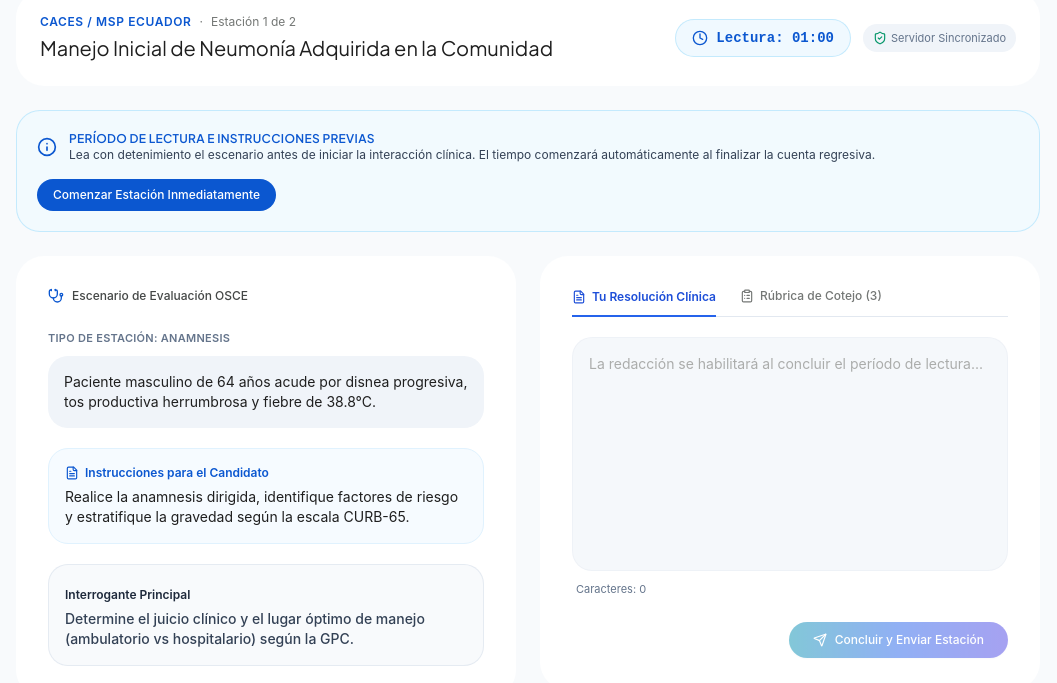
Scenario: Suite de Pruebas: Motor de Exámenes Clínicos Estructurados (OSCE / ECOE - Ateneo+) › permite enviar la estación voluntariamente y genera la firma criptográfica
Note: Iniciar estación activa
Click the button "Comenzar Estación Inmediatamente".
click(156, 195)  # box [37, 179, 276, 211]
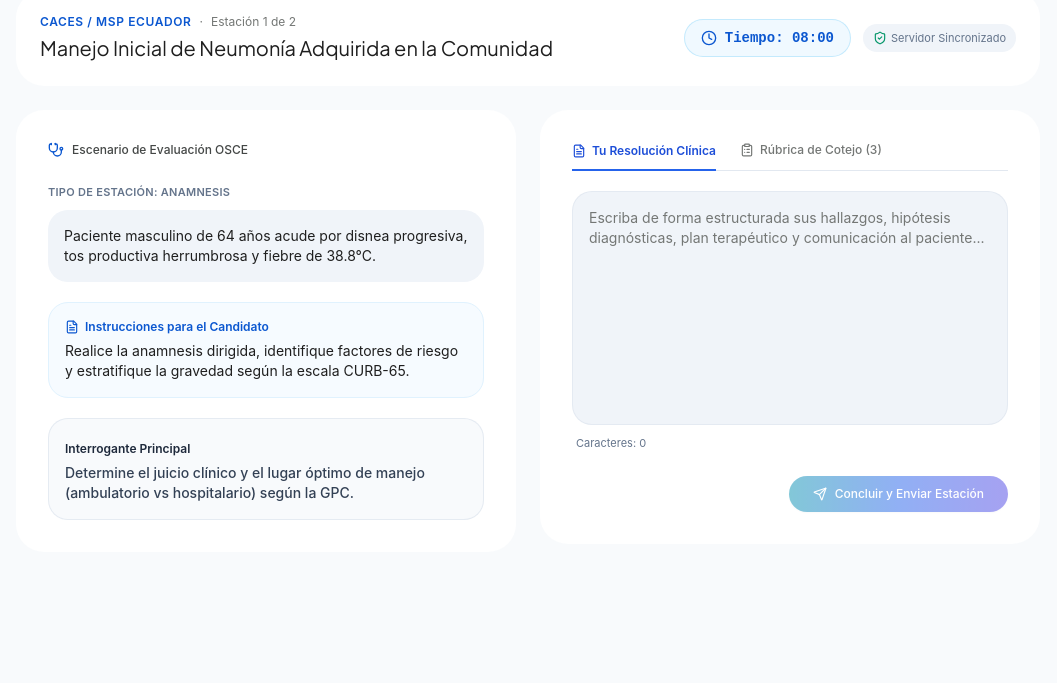
Replace the text in the text box with placeholder "Escriba de forma estructurada sus hallazgos" with "Impresión diagnóstica: NAC moderada. Manejo hospitalario según GPC MSP." at point(790, 308), box [572, 191, 1008, 425]
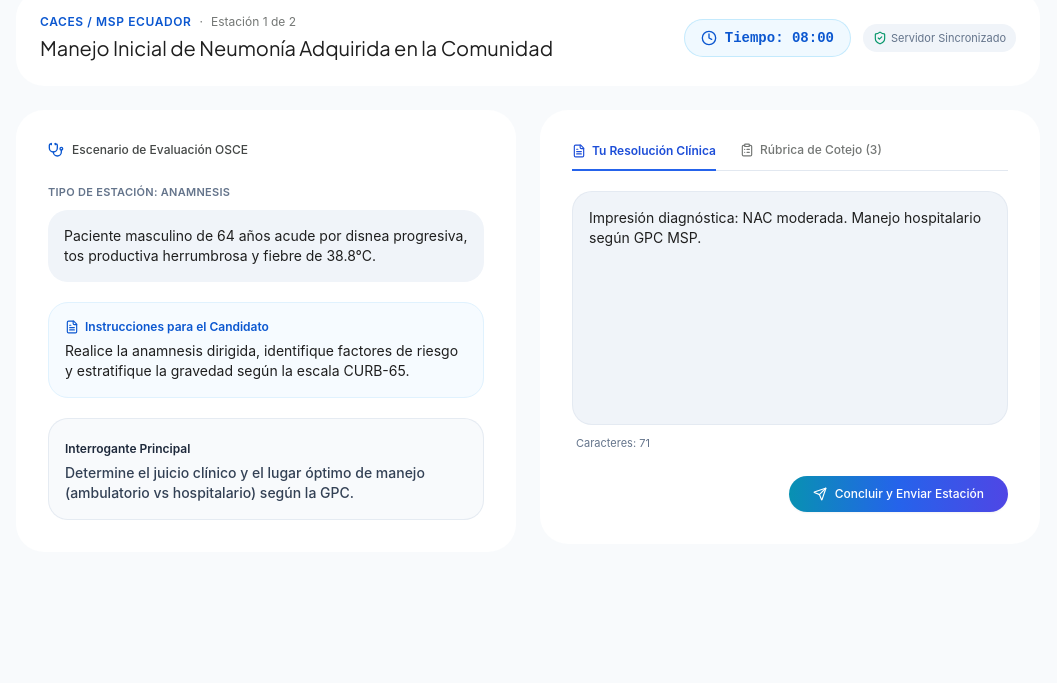
Click the button "Concluir y Enviar Estación".
click(898, 494)  # box [789, 476, 1008, 512]
Wait 50 ms
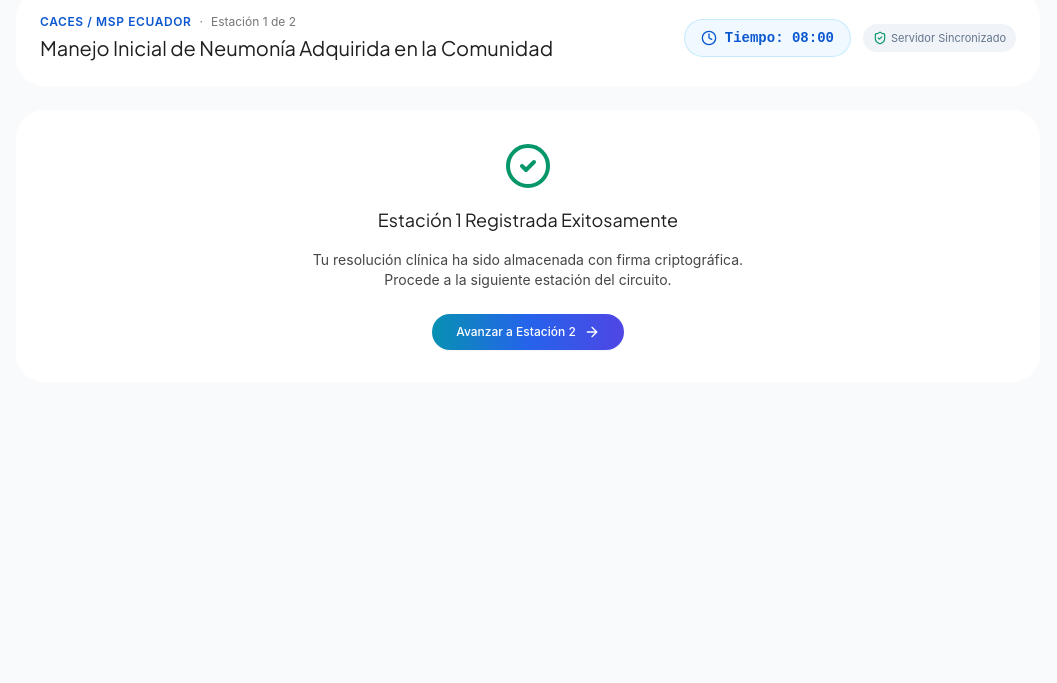
Expected: the heading "Estación 1 Registrada Exitosamente" is shown, [378, 208, 678, 231]
